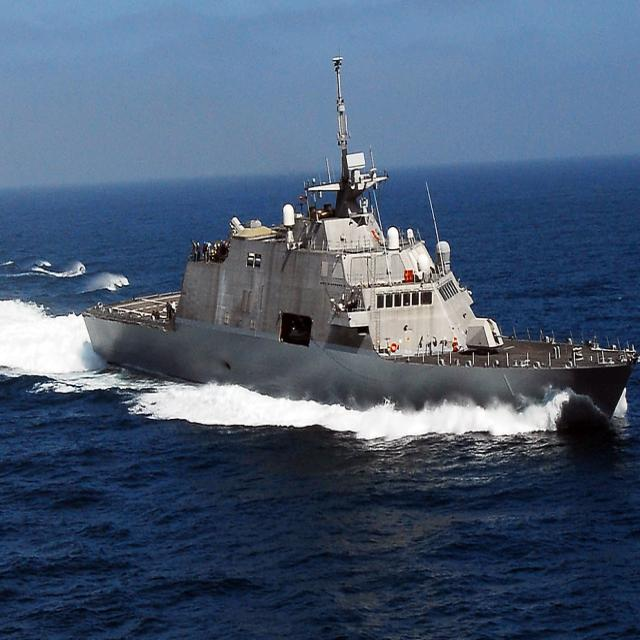navalvessels: (87, 79, 640, 445)
